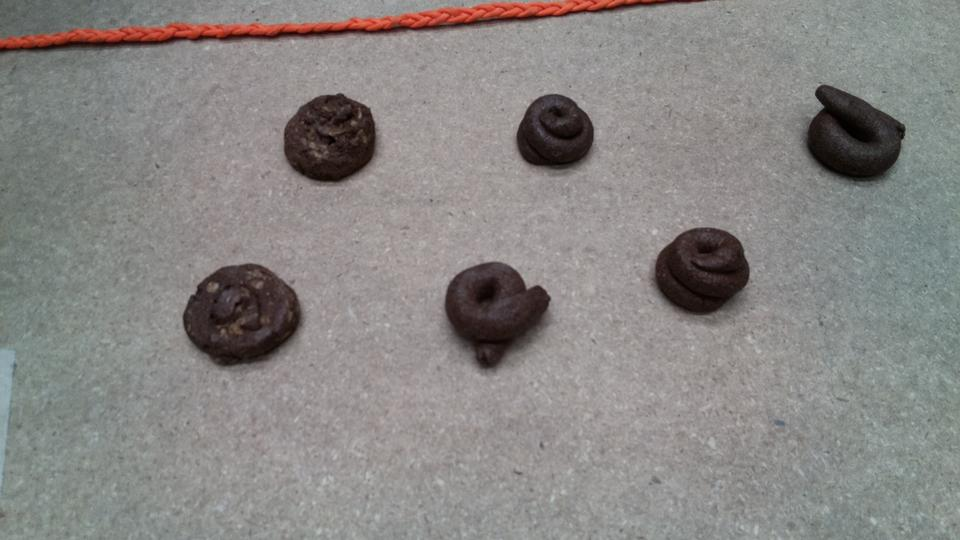poop: (179, 262, 311, 368), (803, 80, 910, 185), (444, 264, 552, 367), (281, 88, 382, 186), (652, 223, 755, 319), (519, 91, 596, 175)
rope: (1, 20, 395, 71), (311, 7, 663, 45)
